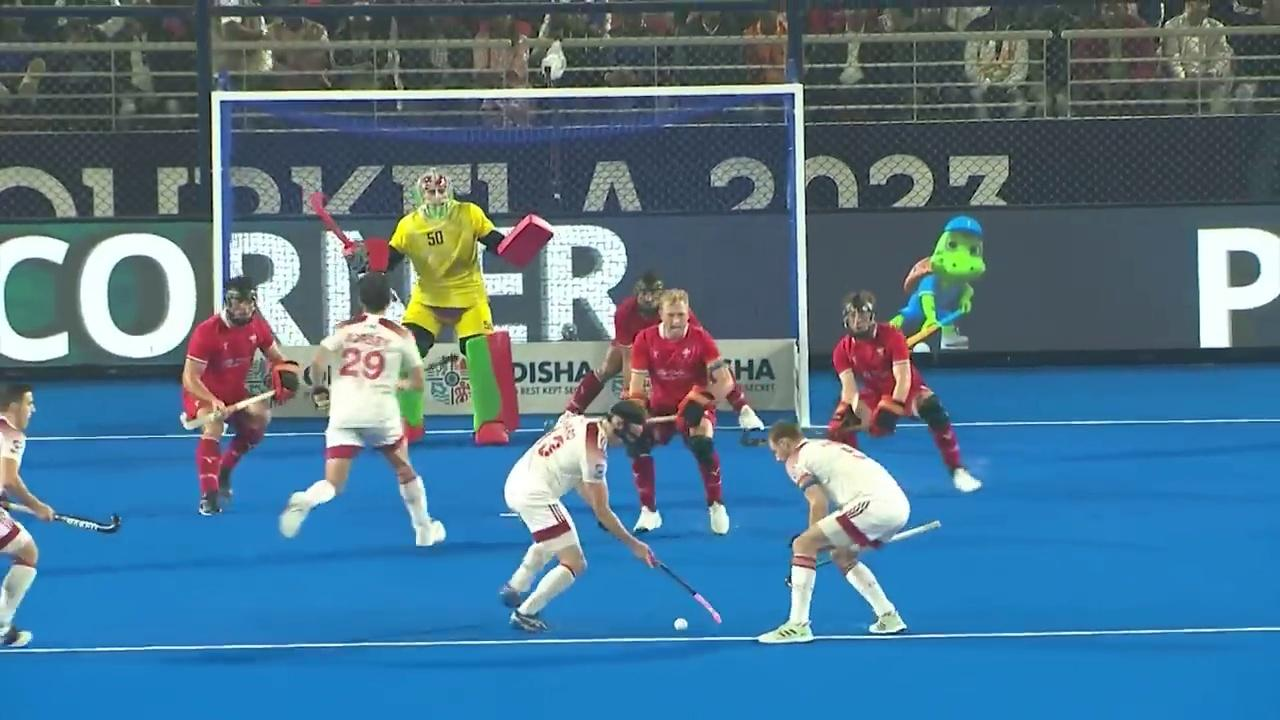ball: (669, 611, 694, 643)
